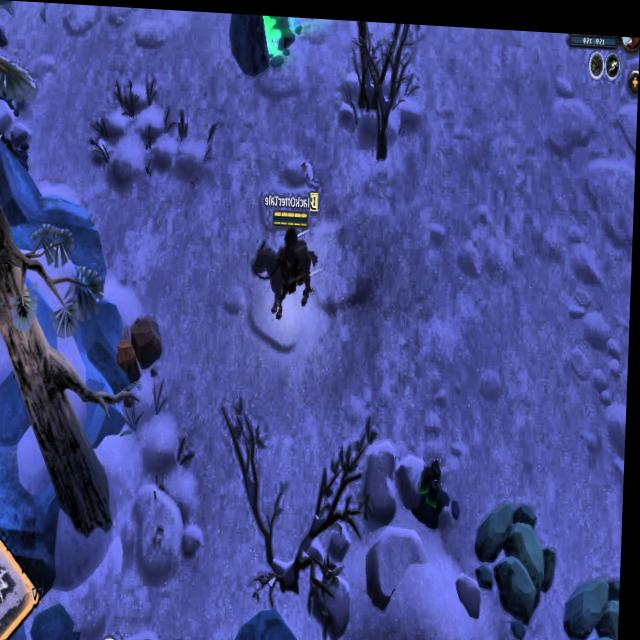limestone: (117, 304, 168, 387)
sandstone: (477, 491, 562, 633), (564, 564, 624, 640)
tinore: (413, 450, 457, 528)
